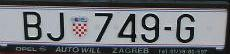-: (164, 27, 172, 31)
4: (118, 13, 138, 42)
7: (94, 12, 114, 43)
9: (140, 13, 160, 44)
B: (22, 10, 42, 41)
G: (175, 14, 195, 43)
J: (47, 11, 65, 41)
